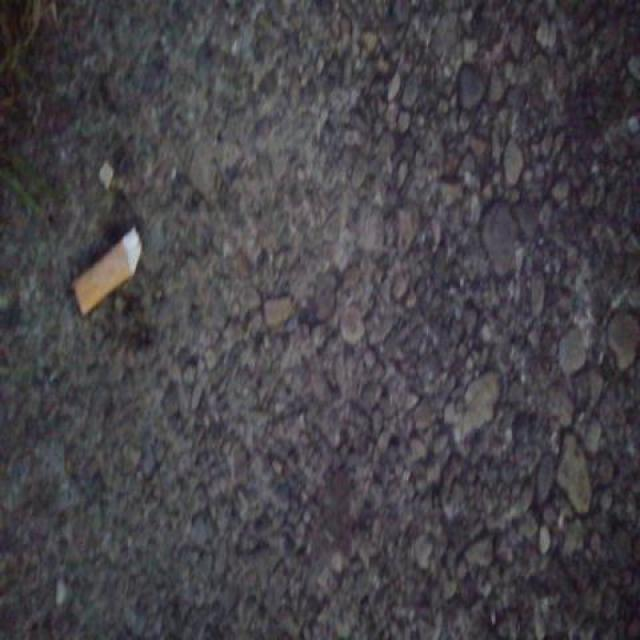non-organic waste: (65, 223, 146, 322)
